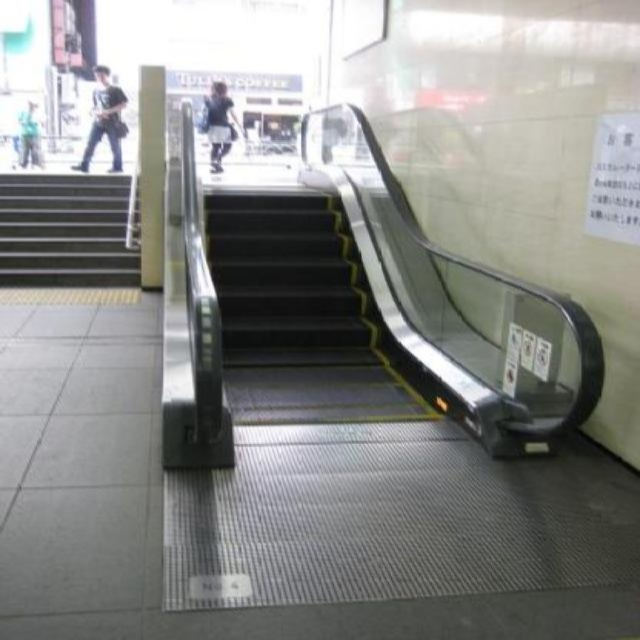stair: (203, 183, 449, 429), (0, 169, 138, 287)
